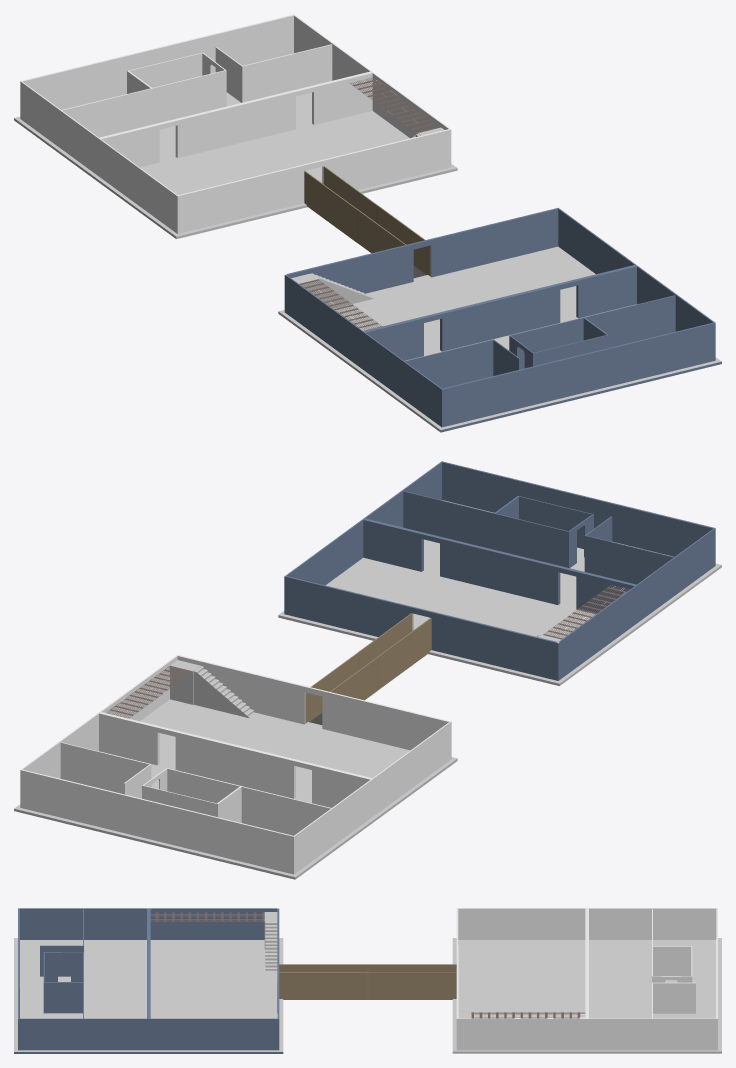
File: Playground.fbx
The picture shows the model from 3 angles, top to bottom: view 1: azimuth 30°, elevation 25°; view 2: azimuth 150°, elevation 25°; view 3: azimuth 270°, elevation 25°; orthographic projection. The views are drawn at different scales.
Parts seen in each view (by area): view 1: Level; view 2: Level; view 3: Level.
Part boxes in pixels (x1,y1,x2,y2): Level: (14, 14, 721, 432); Level: (14, 461, 721, 879); Level: (14, 908, 721, 1053).
Bounding box in the file's own units: 6193 × 845 × 16264.
